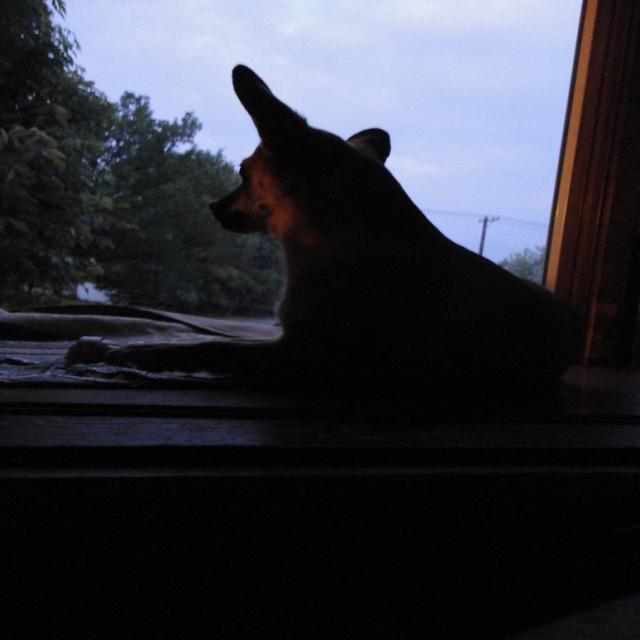Dog: (136, 37, 640, 537)
